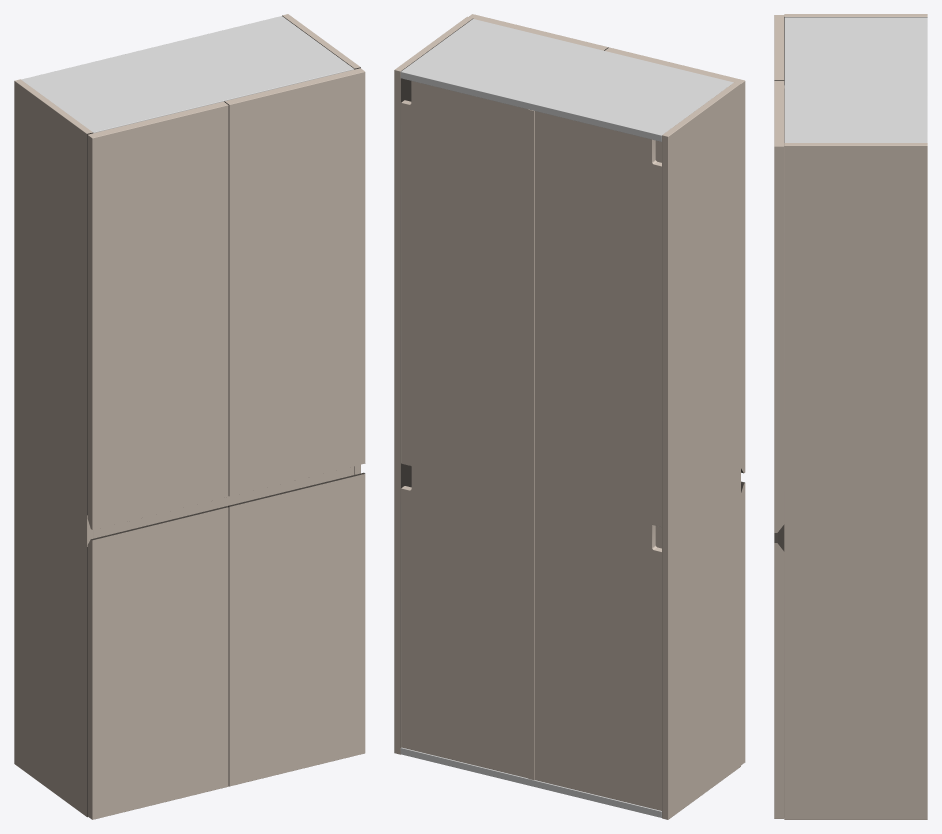
3 views of the same model, side by side, from view 1: azimuth 30°, elevation 25°; view 2: azimuth 150°, elevation 25°; view 3: azimuth 270°, elevation 25° (orthographic).
Parts seen in each view (by area): view 1: VX12; view 2: VX12; view 3: VX12.
Part boxes in pixels (bbox=[...]): VX12: bbox=[14, 14, 365, 819]; VX12: bbox=[394, 14, 745, 819]; VX12: bbox=[774, 14, 927, 819].
Size of the model in its own units: 0.698 by 1.66 by 0.343.
